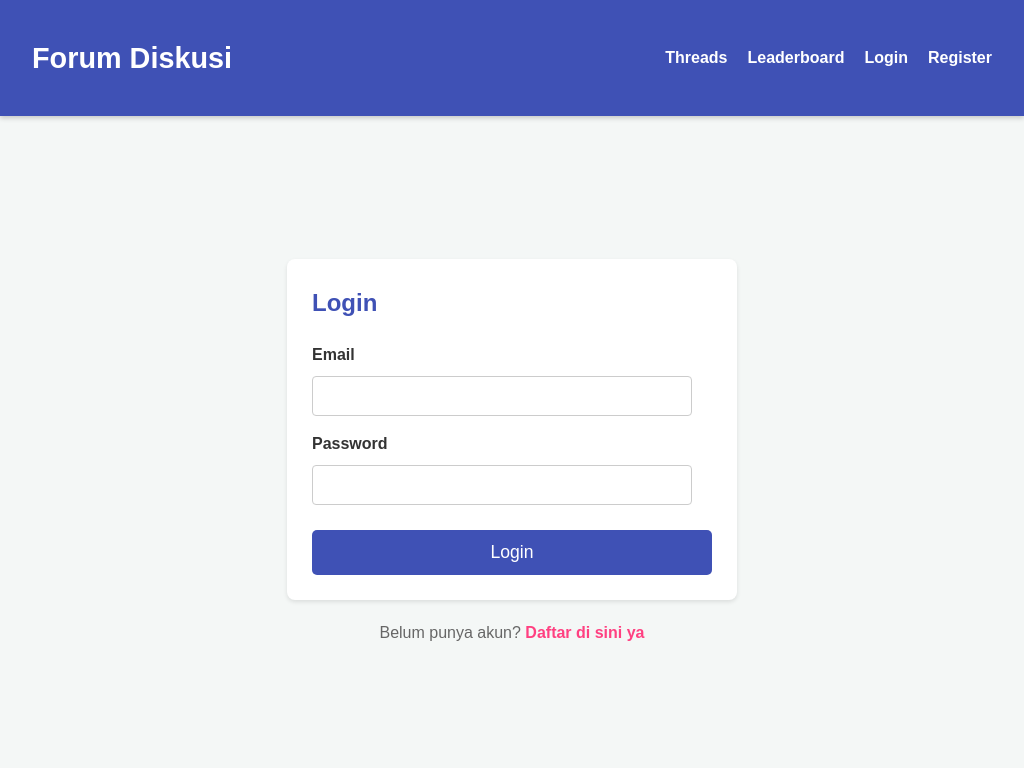
Test: Login Page E2E Test › should login successfully when valid credentials are provided
Expected: the submit button is shown, [312,530,712,575]
Type "geraldnael@gmail.com" into the field with id "email". click: (502, 396)
box: [312,376,692,416]
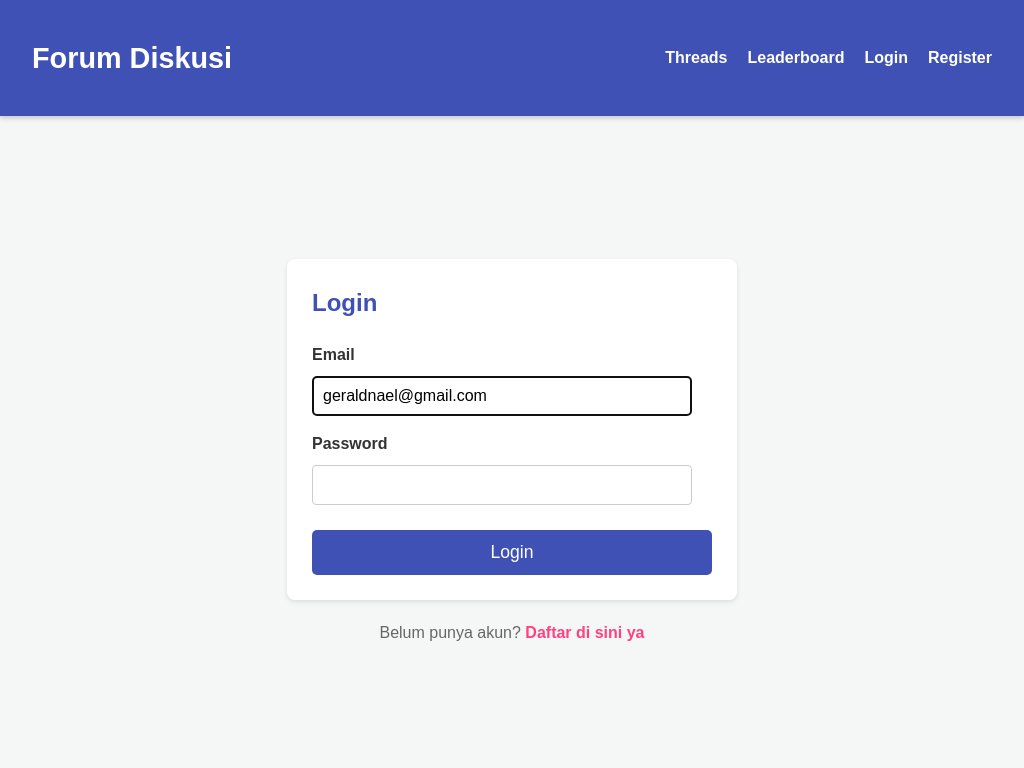
Type "123456" into the password field labelled "Password". click: (502, 485)
box: [312,465,692,505]
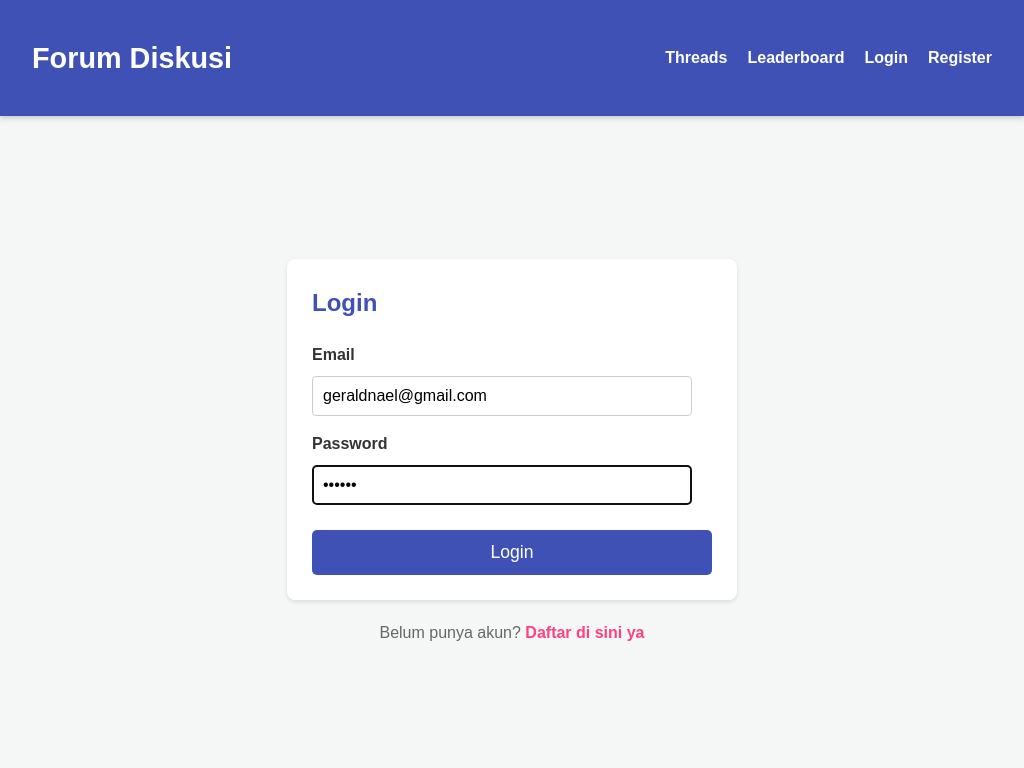
Click the submit button. click: (512, 553)
box: [312,530,712,575]
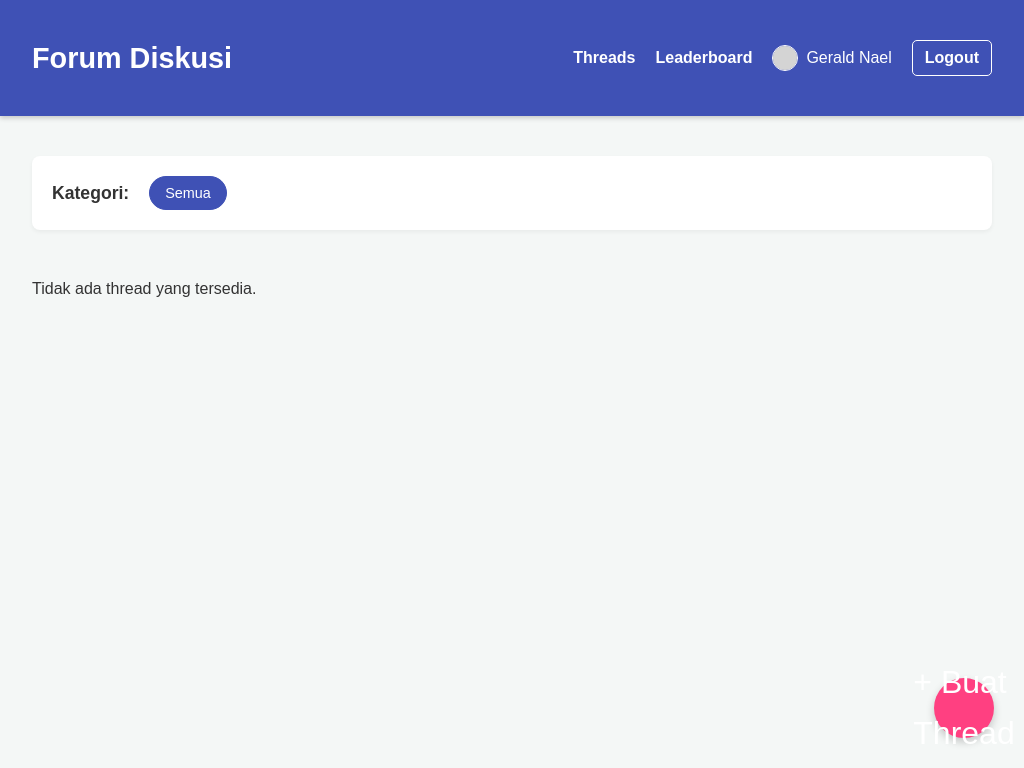
Expected: the link "Forum Diskusi" is shown, [32,42,232,74]
Now the text "Gerald Nael" is shown, box [806,45,892,71]
Now the button "Logout" is shown, box [912,40,992,76]
